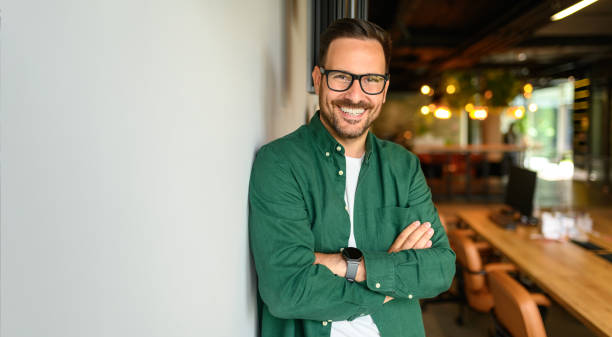Male: (246, 18, 460, 337)
